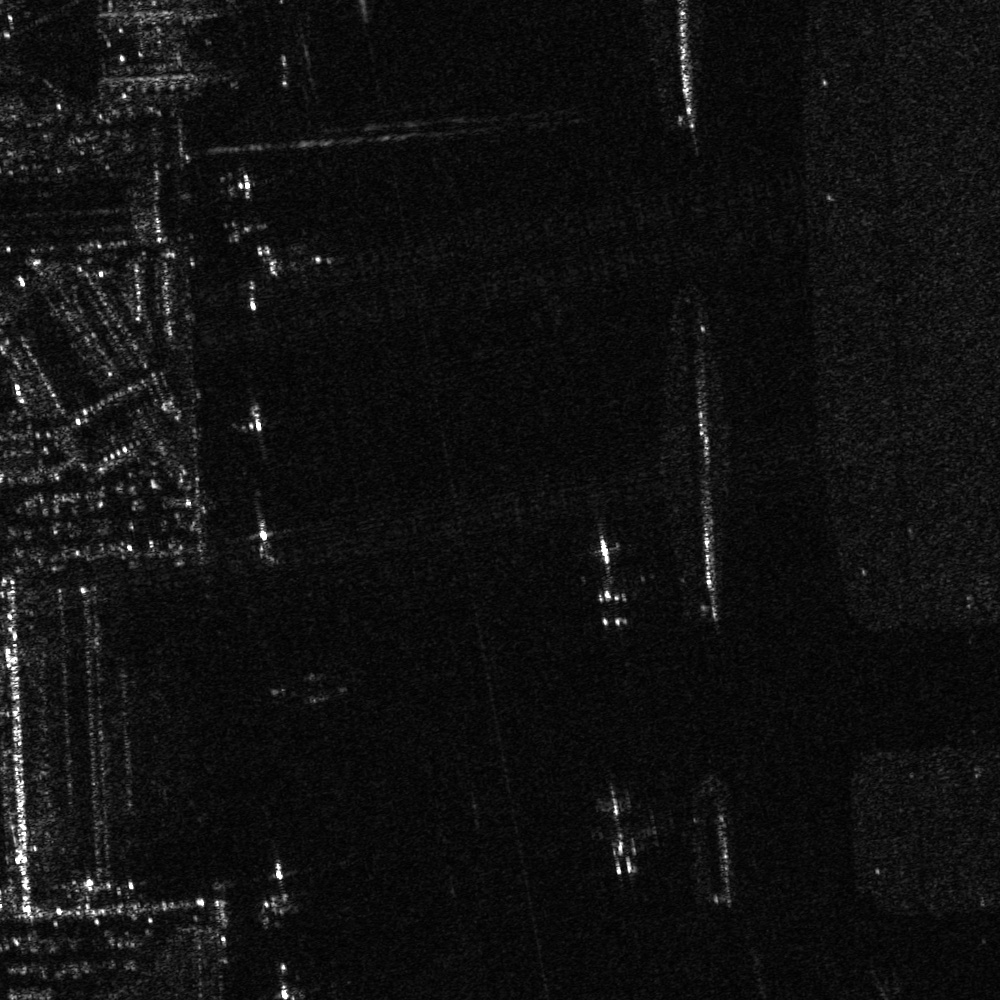A220: (238, 234, 344, 291)
other: (590, 772, 657, 882), (582, 515, 637, 639)
